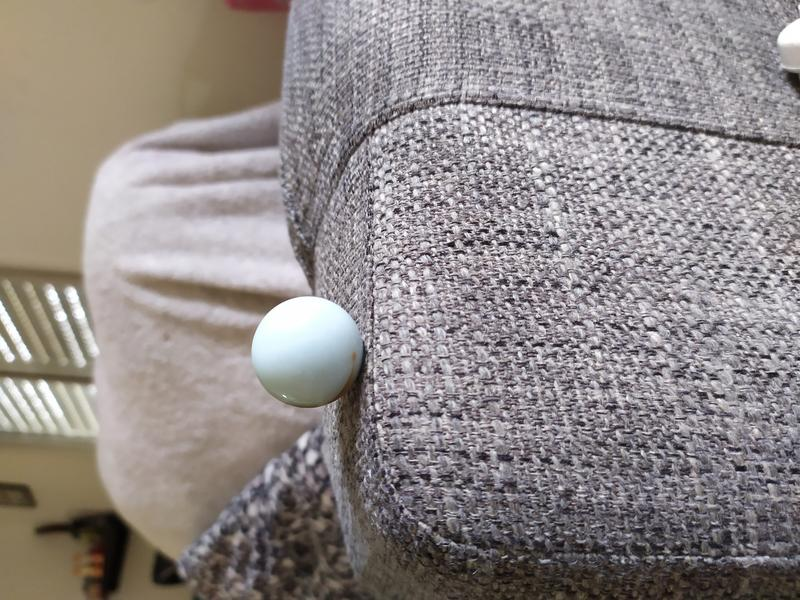Warning: (247, 293, 367, 411)
